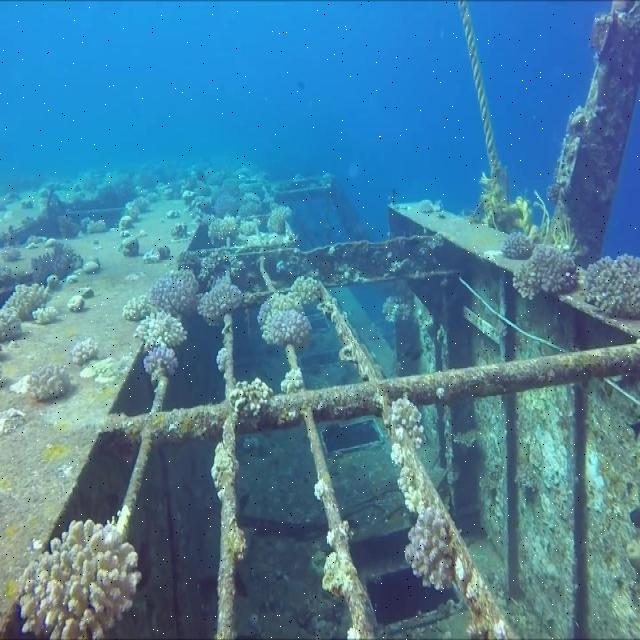reefs: (122, 248, 244, 384), (18, 505, 142, 637), (502, 231, 577, 299), (384, 397, 426, 514), (404, 497, 454, 590), (257, 276, 321, 347), (1, 274, 59, 340), (582, 254, 639, 319), (30, 238, 83, 283), (228, 375, 274, 417), (207, 214, 261, 245), (212, 183, 261, 217), (26, 364, 70, 400), (71, 339, 98, 366), (268, 206, 294, 233), (67, 295, 83, 311)
wrecks-ruins: (0, 0, 639, 639)
